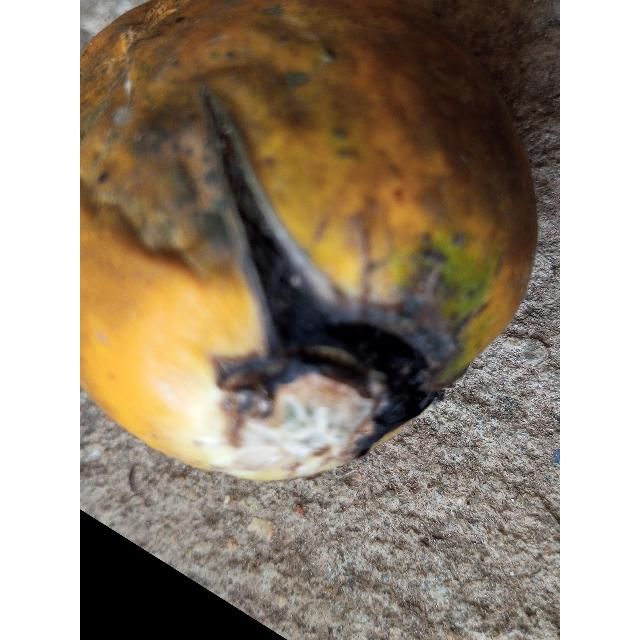damaged: (80, 0, 539, 485)
